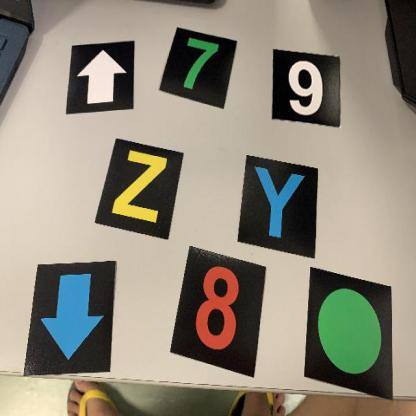7: (163, 27, 238, 111)
8: (176, 248, 267, 377)
9: (271, 47, 342, 129)
down: (25, 260, 118, 376)
go: (304, 267, 397, 402)
up: (66, 39, 136, 111)
y: (239, 153, 320, 261)
z: (103, 139, 185, 243)
